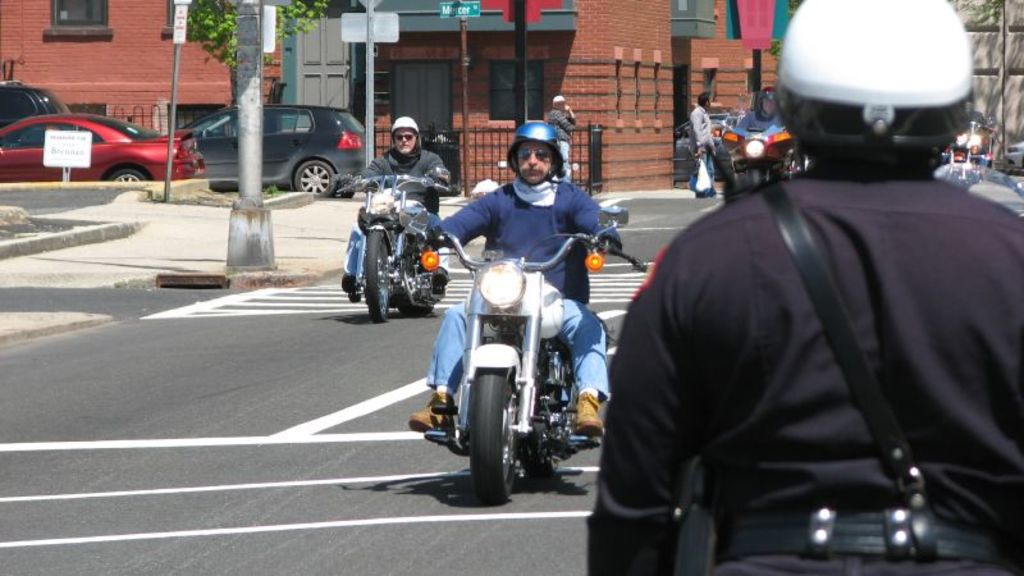mobil: (1, 113, 204, 184)
motor: (432, 252, 585, 513), (357, 185, 445, 320)
